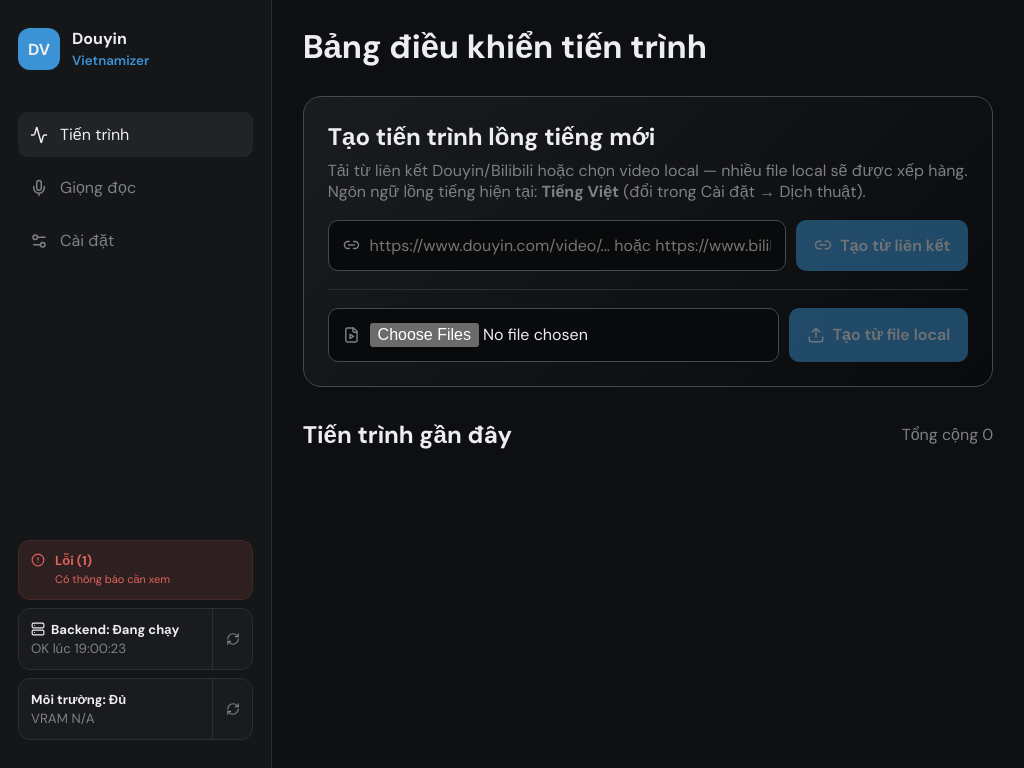
Test case: shows an actionable backend connection error
Click the button with aria-label "Lỗi và thông báo (1)": (136, 570) [18,540,253,600]
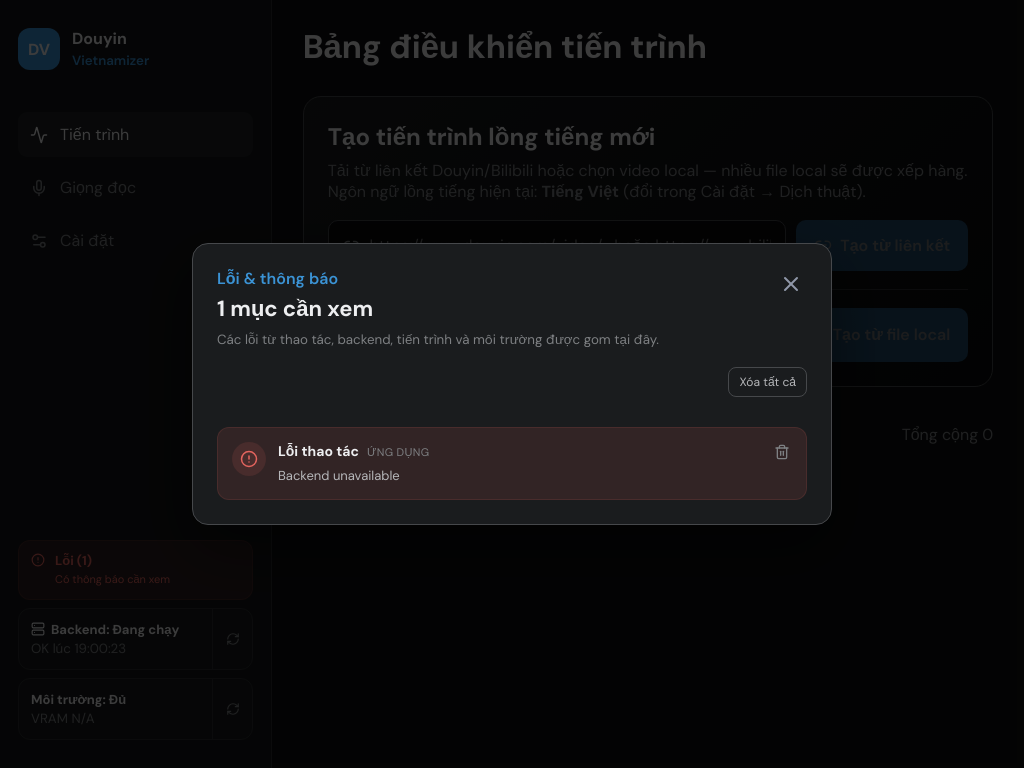
Now the text "Backend unavailable" is shown, box [278,467,400,484]
Now the text "Lỗi thao tác" is shown, box [278,442,359,460]
